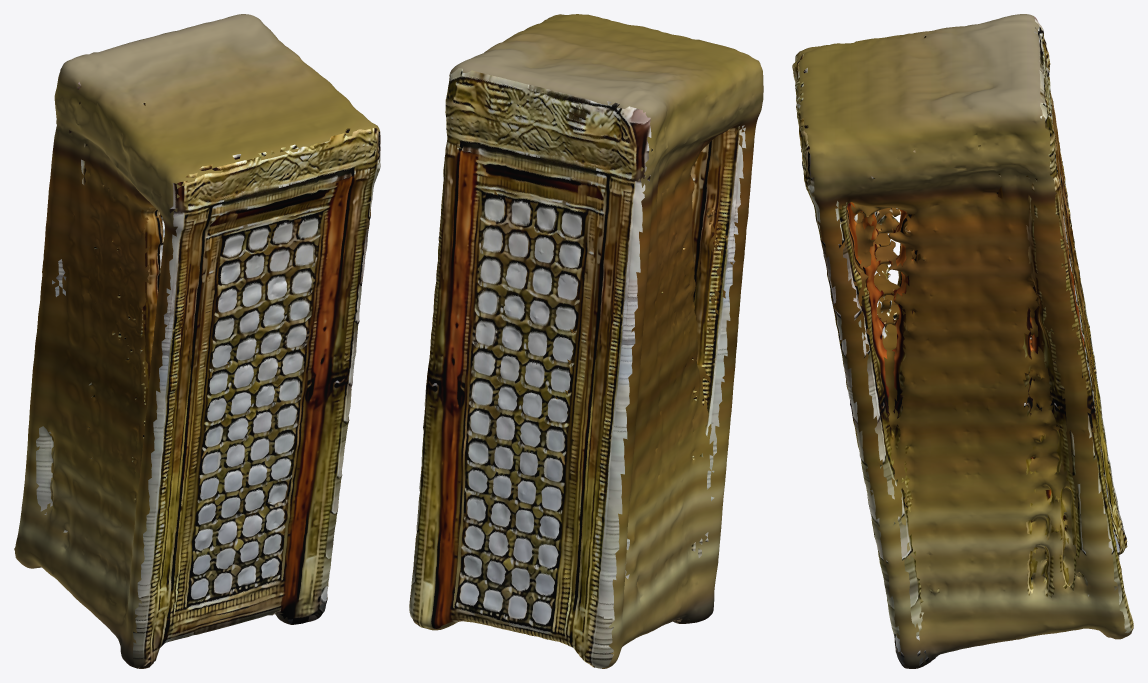
File: kfl-2288.glb
The picture shows the model from 3 angles, left to right: view 1: azimuth 30°, elevation 25°; view 2: azimuth 150°, elevation 25°; view 3: azimuth 270°, elevation 25°; orthographic projection.
Visible parts, largest first — view 1: kfl-2288; view 2: kfl-2288; view 3: kfl-2288.
Part boxes in pixels (bbox=[...]): kfl-2288: bbox=[14, 14, 380, 668]; kfl-2288: bbox=[409, 14, 763, 668]; kfl-2288: bbox=[792, 14, 1133, 668].
Size of the model in its own units: 0.4033 by 0.9972 by 0.5413.
4 materials, 4 textured.
